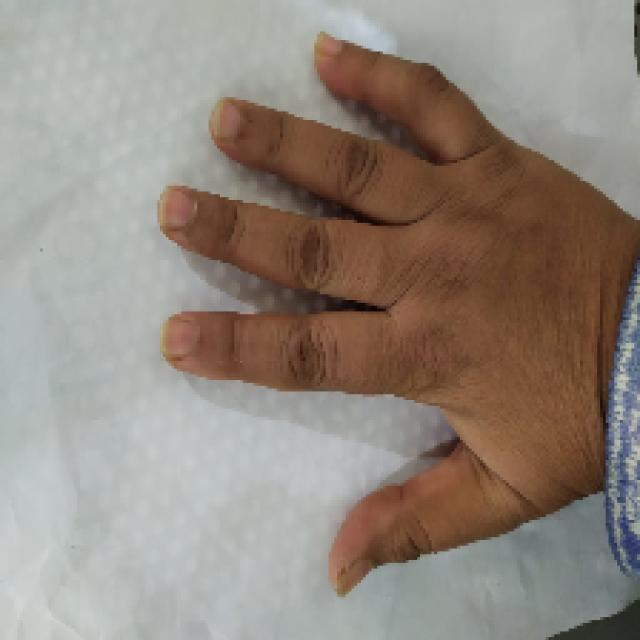Nail: (335, 559, 378, 598), (161, 315, 200, 357), (159, 186, 198, 228), (210, 102, 241, 137), (315, 32, 344, 56)
